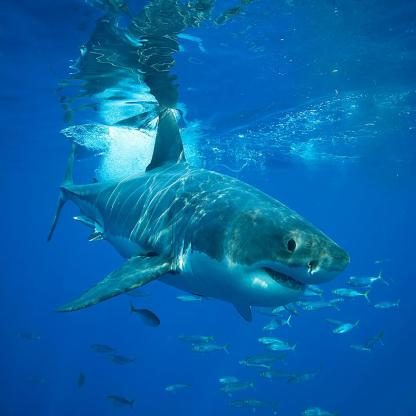white-shark: (49, 108, 350, 323)
